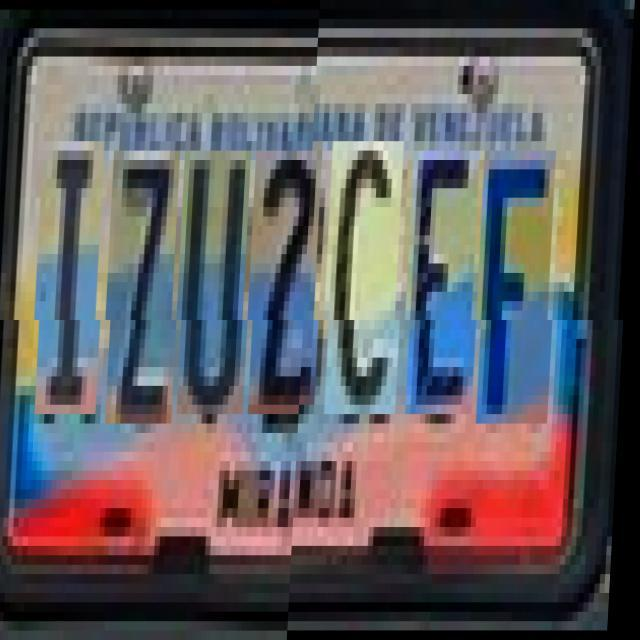2: (252, 150, 329, 414)
C: (328, 150, 411, 424)
E: (409, 160, 486, 424)
F: (480, 160, 562, 433)
I: (39, 141, 111, 414)
U: (181, 150, 258, 414)
Z: (110, 150, 187, 424)
